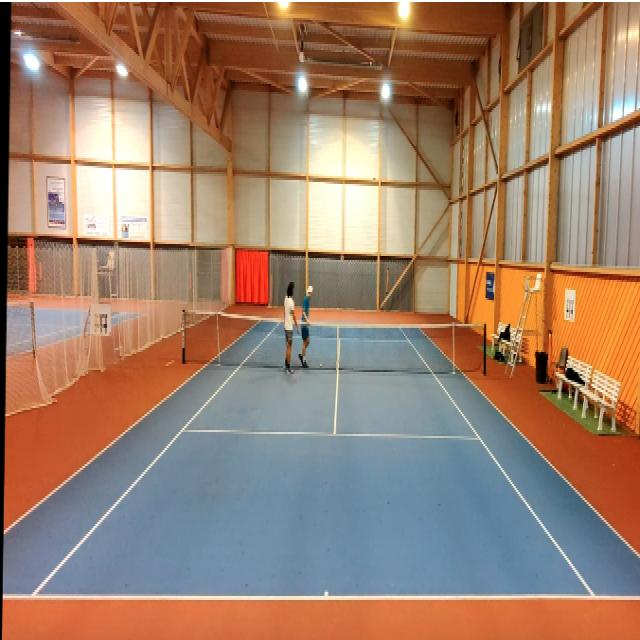ball: (320, 363, 322, 369)
